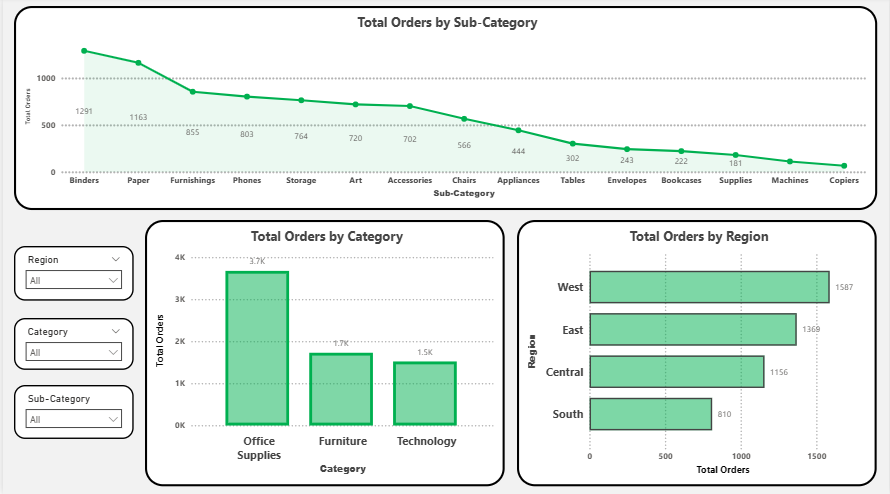

The page's visual inventory and layout, read from the dashboard file:
{"tool":"powerbi","page":{"name":"Page 3","canvas":[1280,720],"ordinal":2},"visuals":[{"type":"stackedAreaChart","fields":{"Category":["Fact_Sales.Sub-Category"],"Y":["Fact_Sales.Total Orders"]},"box":[15.9,13,1247.7,294.9],"z":0},{"type":"slicer","fields":{"Values":["Fact_Sales.Region"]},"box":[16.2,360,173.4,79.3],"z":1},{"type":"slicer","fields":{"Values":["Fact_Sales.Category"]},"box":[16.2,464.3,173.4,74.9],"z":2},{"type":"slicer","fields":{"Values":["Fact_Sales.Sub-Category"]},"box":[16.2,561.3,173.4,77.9],"z":3},{"type":"columnChart","fields":{"Category":["Fact_Sales.Category"],"Y":["Fact_Sales.Total Orders"]},"box":[205.7,321.8,520.2,385],"z":4},{"type":"barChart","fields":{"Category":["Fact_Sales.Region"],"Y":["Fact_Sales.Total Orders"]},"box":[743.1,322.4,520.5,384.6],"z":5}]}

Visuals, with their boxes in screenshot pixels (x1, y1, x2, y2), scaled from the page's 1280x720 canvas onto the 890x494 screenshot:
stackedAreaChart - Fact_Sales.Sub-Category x Fact_Sales.Total Orders: (left=11, top=9, right=879, bottom=211)
slicer - Fact_Sales.Region: (left=11, top=247, right=132, bottom=301)
slicer - Fact_Sales.Category: (left=11, top=319, right=132, bottom=370)
slicer - Fact_Sales.Sub-Category: (left=11, top=385, right=132, bottom=439)
columnChart - Fact_Sales.Category x Fact_Sales.Total Orders: (left=143, top=221, right=505, bottom=485)
barChart - Fact_Sales.Region x Fact_Sales.Total Orders: (left=517, top=221, right=879, bottom=485)
